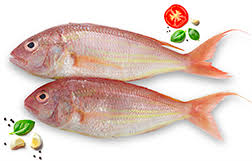Ikan Kerisi: (6, 22, 228, 78), (25, 80, 226, 138)
